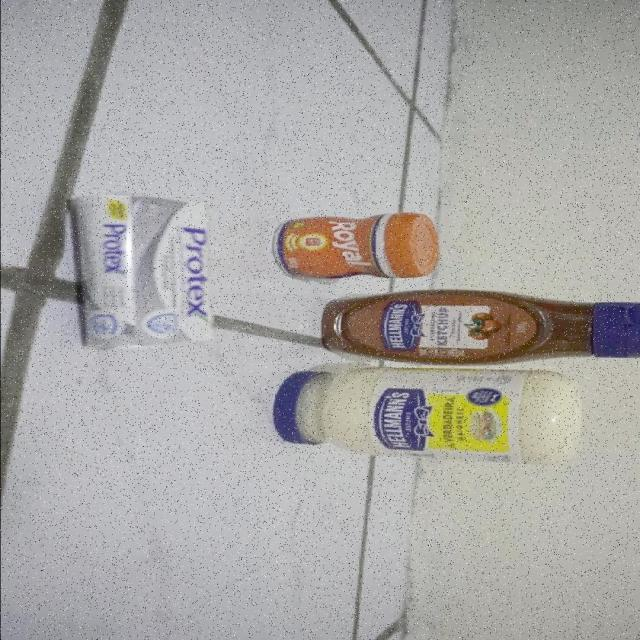Ketchup: (320, 289, 640, 365)
Mayonnaise: (278, 370, 582, 467)
Soap: (75, 196, 207, 350)
Yeast: (274, 213, 438, 281)
